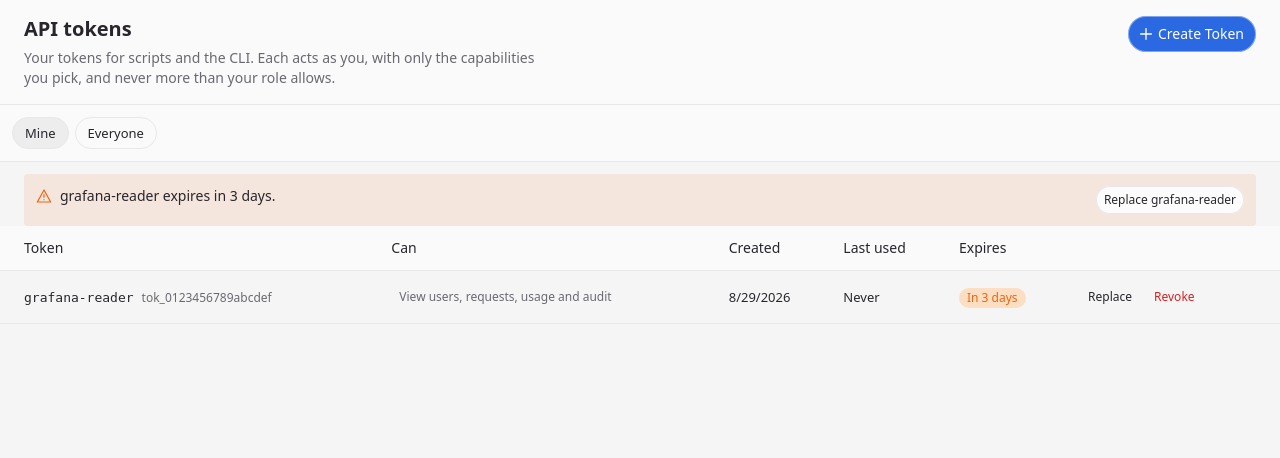
Test: API tokens › lets an owner see everyone's tokens with their owner and last use, and replace only their own
The image size is (1280, 458).
Expected: the text "Never" is shown, x1=843 y1=288 x2=880 y2=306
Click the button "Everyone" at [116, 133], box x1=74 y1=117 x2=157 y2=149
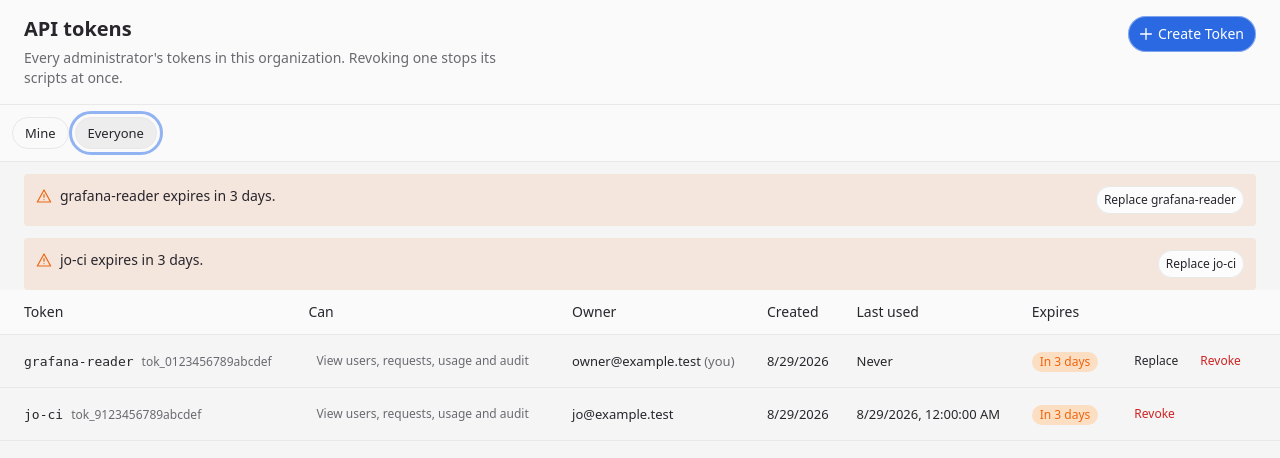
Expected: the button "Revoke" in the row of "tok_9123456789abcdef" is shown, x1=1126 y1=400 x2=1183 y2=428
Result: the text "jo@example.test" is shown at x1=572 y1=405 x2=674 y2=423
